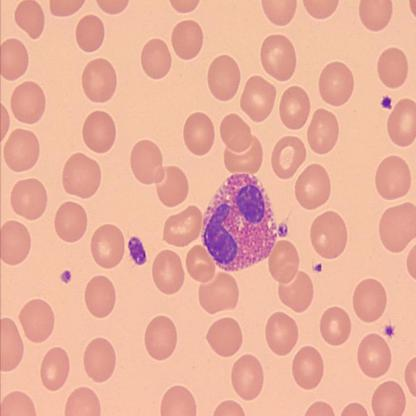Eosinophil: (200, 172, 282, 272)
